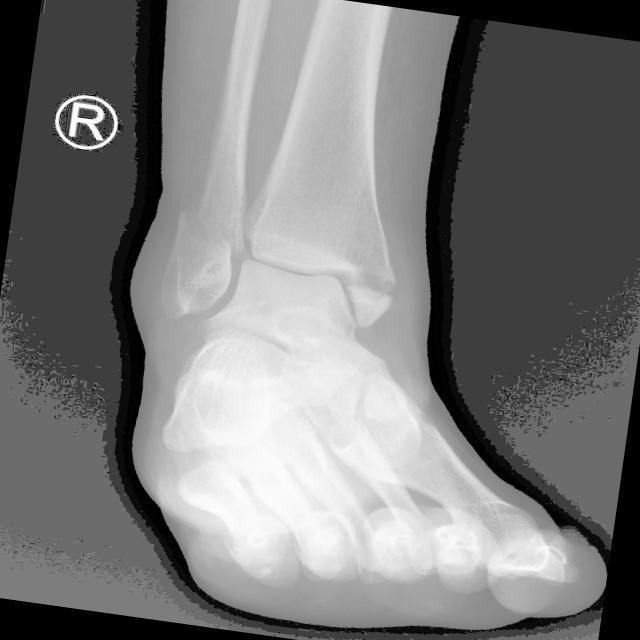Oblique fracture: (179, 202, 243, 271), (347, 264, 398, 311)
